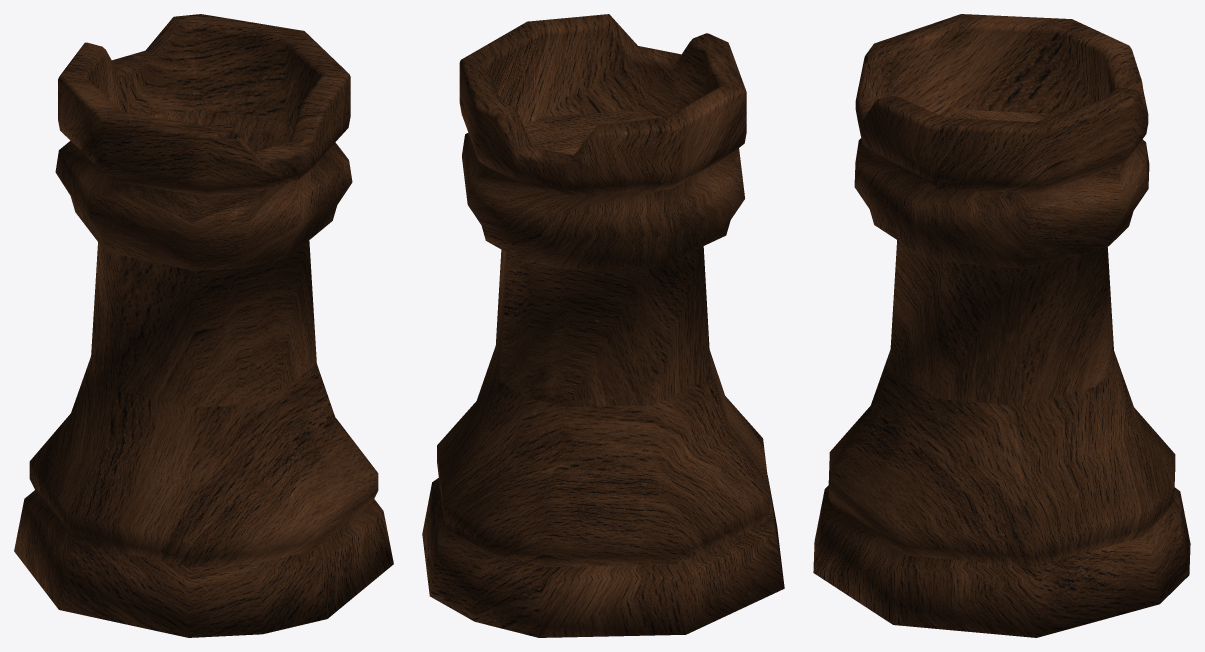
The model's file is BlackRook.gltf.
3 renders of one model, left to right at view 1: azimuth 30°, elevation 25°; view 2: azimuth 150°, elevation 25°; view 3: azimuth 270°, elevation 25°, orthographic.
Parts seen in each view (by area): view 1: Object_8; view 2: Object_8; view 3: Object_8.
Part boxes in pixels (<box>): Object_8: <box>14,14,393,637</box>; Object_8: <box>422,14,784,637</box>; Object_8: <box>813,14,1190,637</box>.
Size of the model in its own units: 0.0295 by 0.042 by 0.0295.
1 material, 1 textured.
